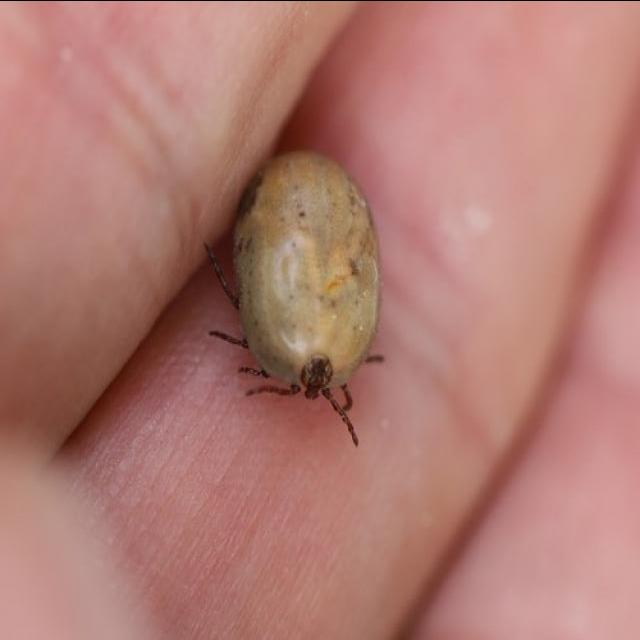Dermacentor Reticulatus-F-Fed: (204, 149, 385, 446)
